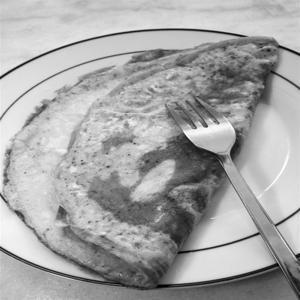omelet: (26, 38, 270, 281)
